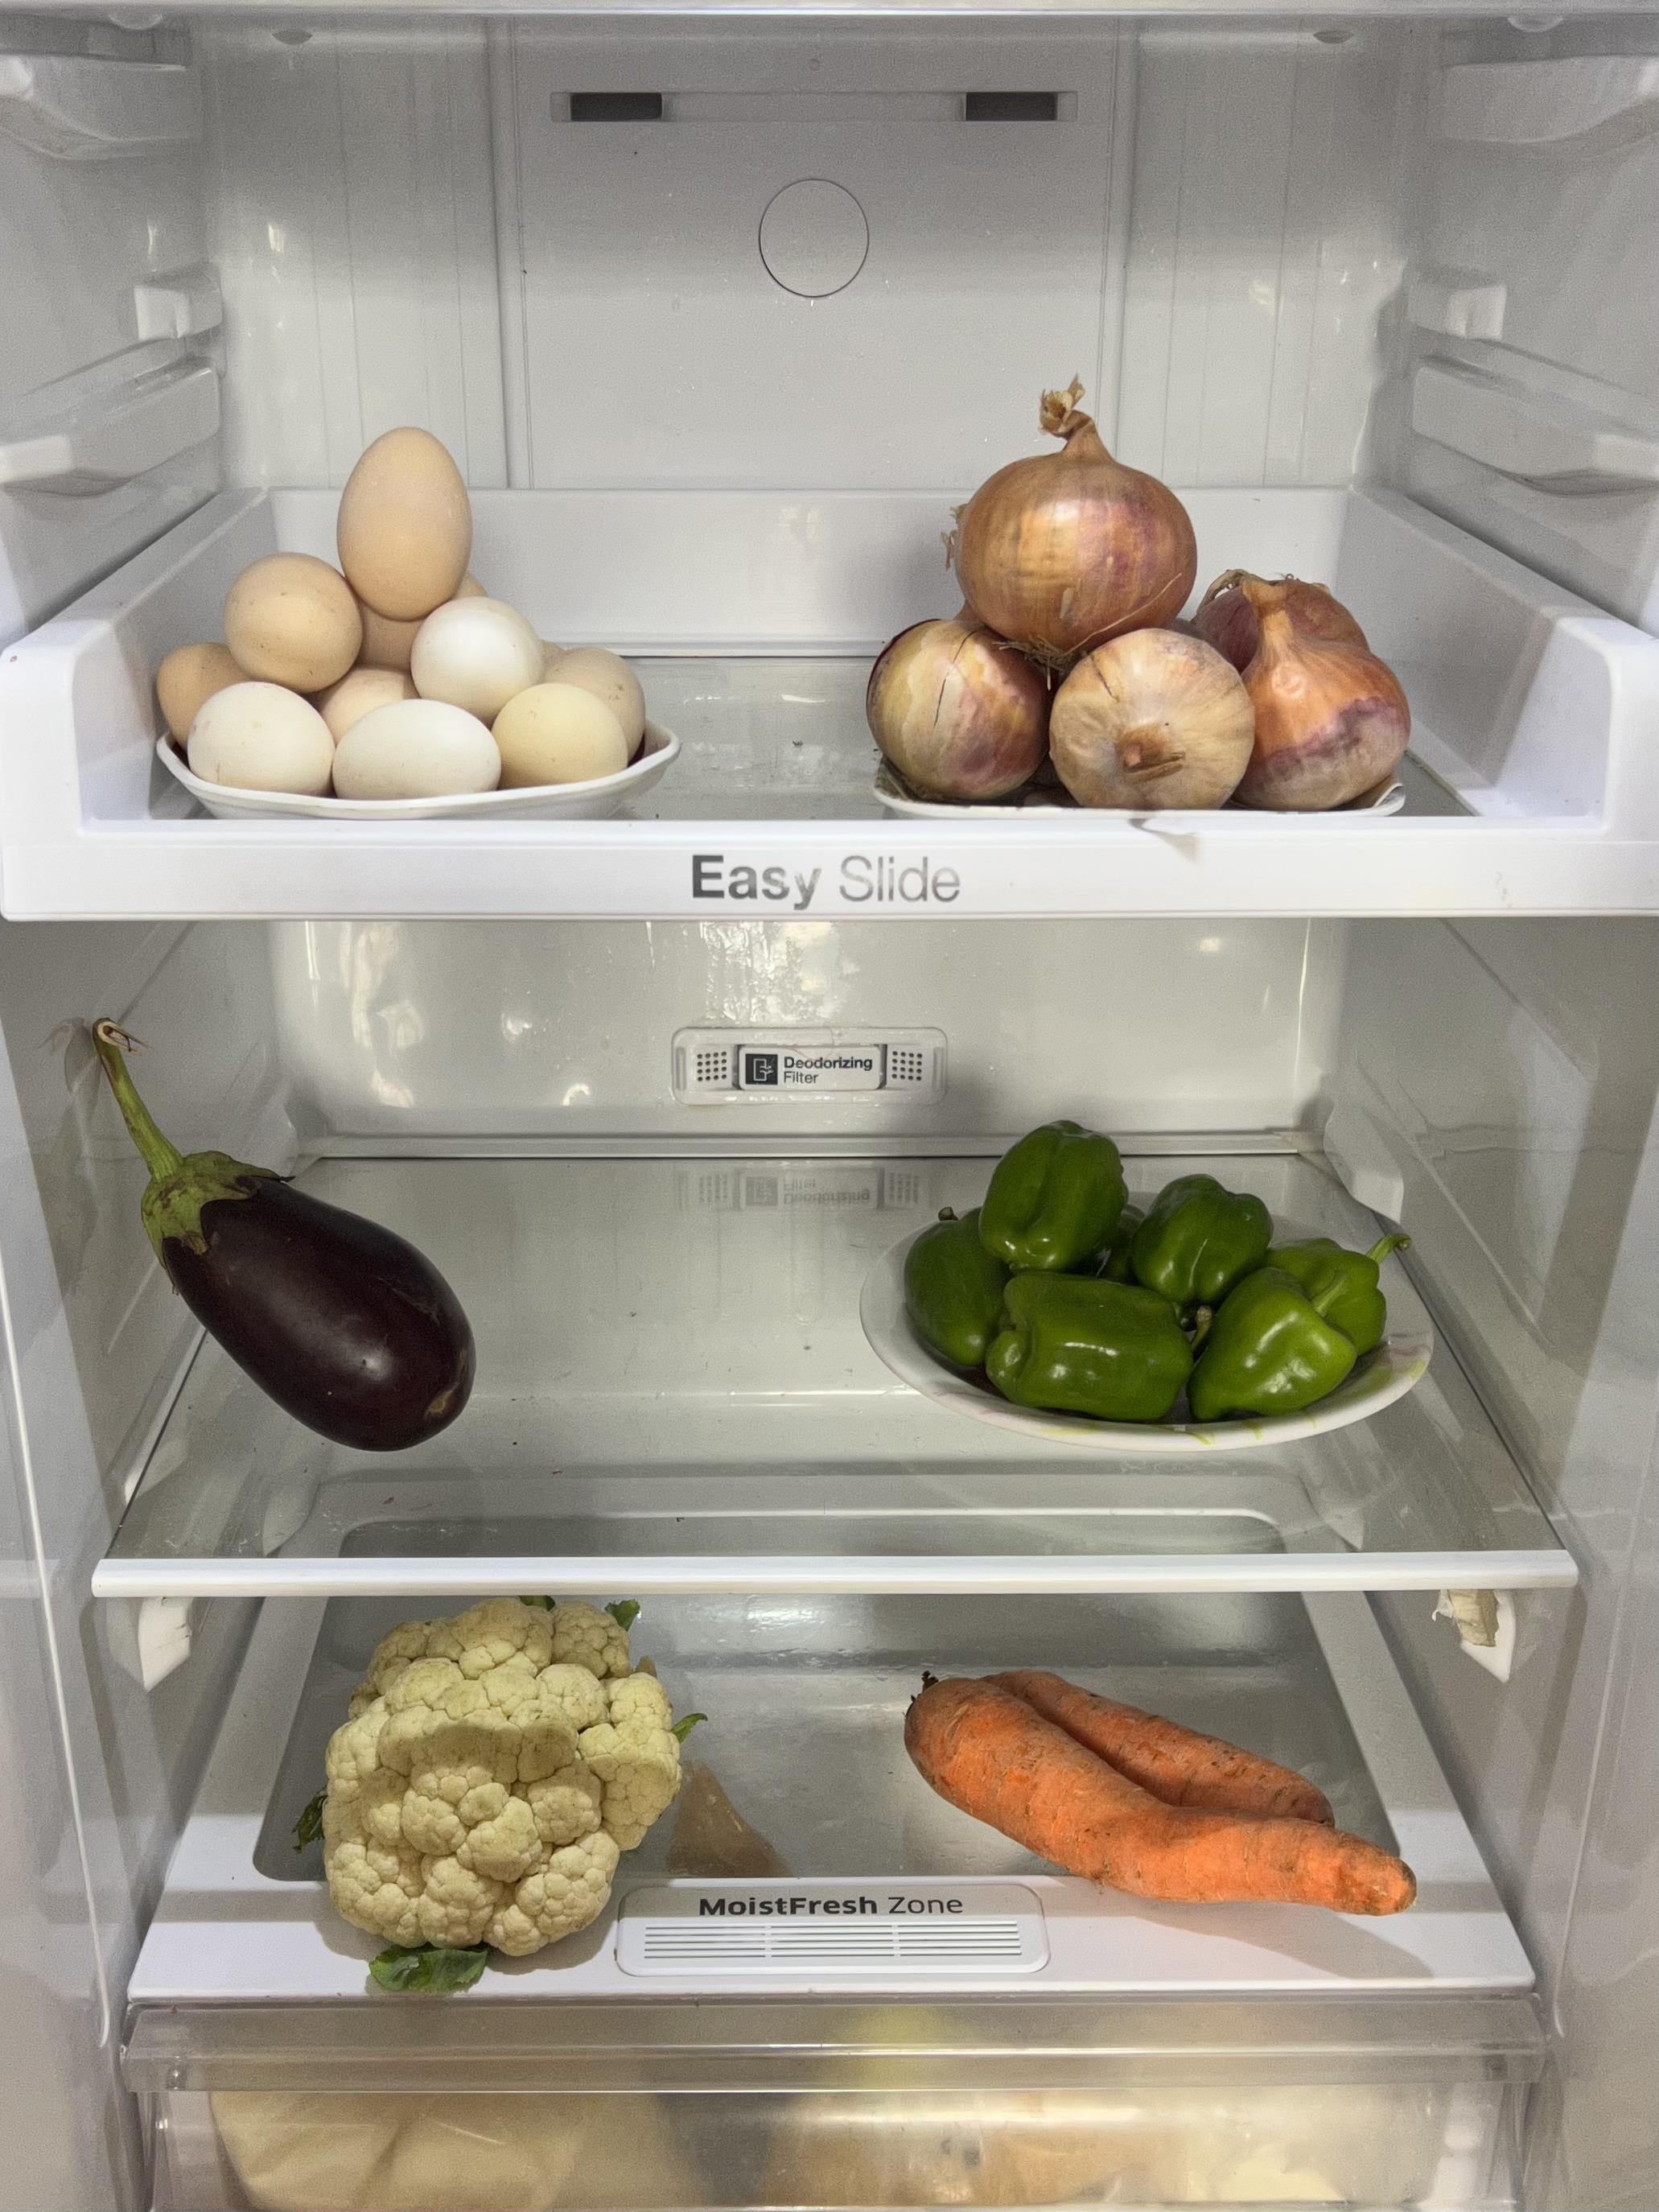bringal: (78, 1011, 479, 1452)
capsicum: (877, 1109, 1394, 1419)
carrots: (880, 1658, 1459, 1935)
cauliflower: (326, 1595, 676, 1959)
egg: (139, 434, 674, 805)
onion: (856, 434, 1434, 805)
